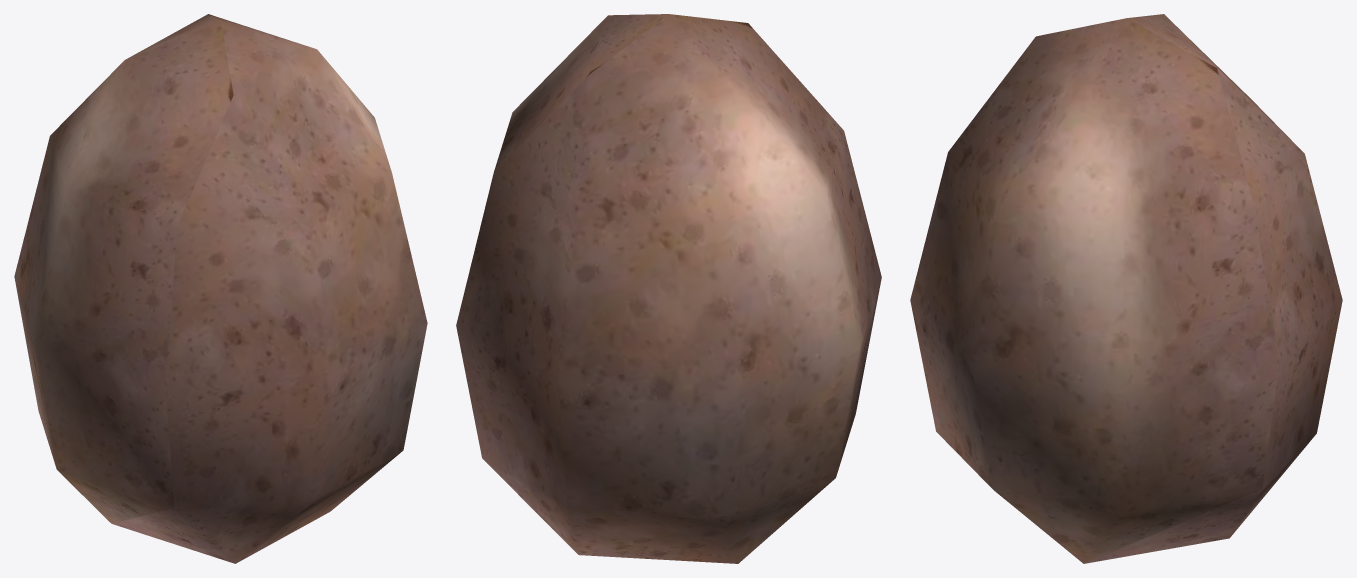
Rendered from ITAT_SCAVENGEREGG.glb.
3 renders of one model, left to right at view 1: azimuth 30°, elevation 25°; view 2: azimuth 150°, elevation 25°; view 3: azimuth 270°, elevation 25°, orthographic. The views are drawn at different scales.
Visible parts, largest first — view 1: Mesh; view 2: Mesh; view 3: Mesh.
Part boxes in pixels (left/top/right/bottom): Mesh: left=14, top=14, right=427, bottom=563; Mesh: left=456, top=14, right=881, bottom=563; Mesh: left=910, top=14, right=1342, bottom=563.
Size of the model in its own units: 0.1539 by 0.1972 by 0.1539.
Materials: 1 (1 with a texture image).
